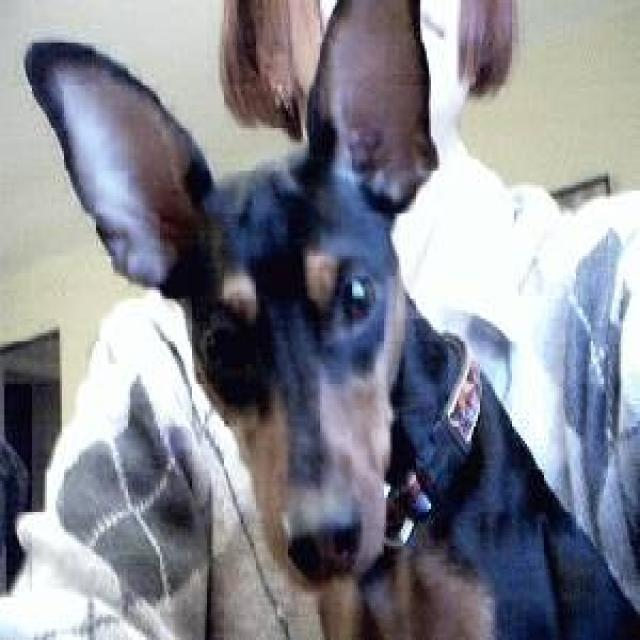dog-miniature_pinscher: (17, 3, 636, 634)
